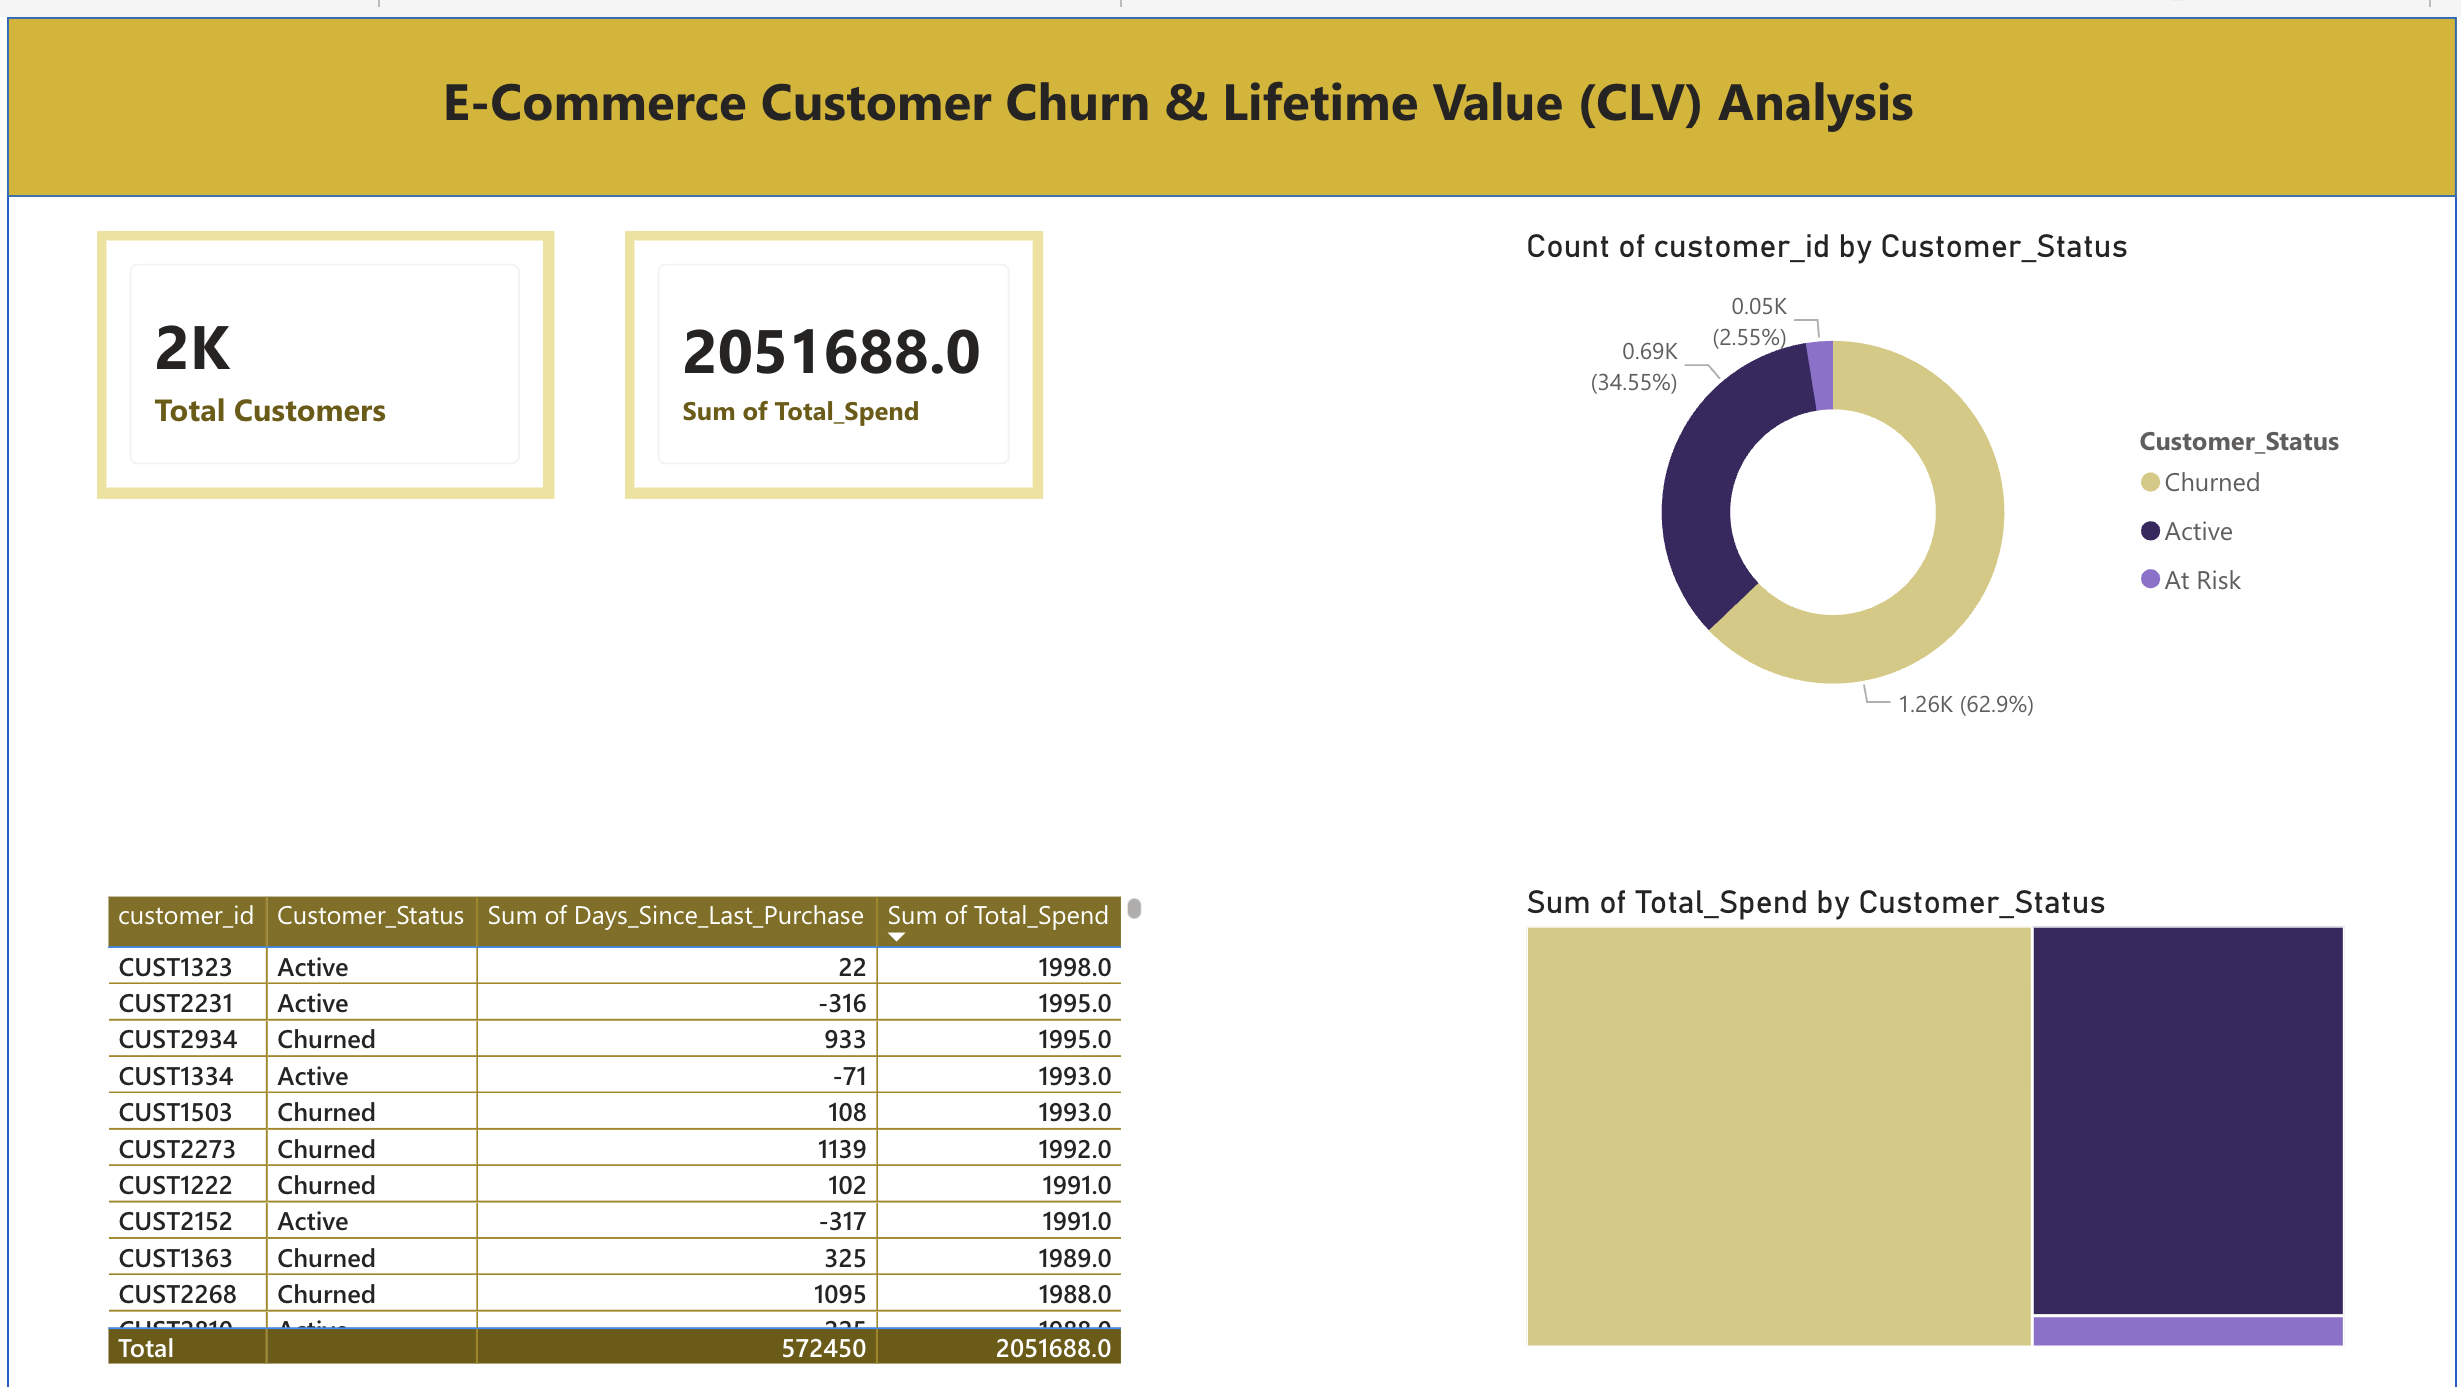

The dashboard page shown, as its layout file describes it:
{"tool":"powerbi","page":{"name":"Page 1","canvas":[1280,720],"ordinal":0},"visuals":[{"type":"shape","box":[0,0,1280,94.1],"z":0},{"type":"textbox","box":[222.4,20.3,812.2,73.7],"z":1},{"type":"donutChart","fields":{"Category":["final_churn_v2 csv.Customer_Status"],"Y":["CountNonNull(final_churn_v2 csv.customer_id)"]},"box":[789.4,111.9,451.2,278.4],"z":2},{"type":"treemap","fields":{"Group":["final_churn_v2 csv.Customer_Status"],"Values":["Sum(final_churn_v2 csv.Total_Spend)"]},"box":[789.4,455.1,437.3,245.3],"z":3},{"type":"tableEx","fields":{"Values":["final_churn_v2 csv.customer_id","final_churn_v2 csv.Customer_Status","Sum(final_churn_v2 csv.Days_Since_Last_Purchase)","Sum(final_churn_v2 csv.Total_Spend)"]},"box":[47,455.1,551.7,254.2],"z":4},{"type":"cardVisual","fields":{"Data":["CountNonNull(final_churn_v2 csv.customer_id)"]},"box":[47,111.9,239,139.8],"z":5},{"type":"cardVisual","fields":{"Data":["Sum(final_churn_v2 csv.Total_Spend)"]},"box":[322.9,111.9,218.6,139.8],"z":6}]}

Visuals, with their boxes in screenshot pixels (x1, y1, x2, y2), scaled from the page's 1280x720 canvas onto the 2461x1387 screenshot:
shape: select_region(0, 0, 2460, 181)
textbox: select_region(428, 39, 1989, 181)
donutChart - final_churn_v2 csv.Customer_Status x CountNonNull(final_churn_v2 csv.customer_id): select_region(1518, 216, 2385, 752)
treemap - final_churn_v2 csv.Customer_Status x Sum(final_churn_v2 csv.Total_Spend): select_region(1518, 877, 2359, 1349)
tableEx - final_churn_v2 csv.customer_id x final_churn_v2 csv.Customer_Status: select_region(90, 877, 1151, 1366)
cardVisual - CountNonNull(final_churn_v2 csv.customer_id): select_region(90, 216, 550, 485)
cardVisual - Sum(final_churn_v2 csv.Total_Spend): select_region(621, 216, 1041, 485)
